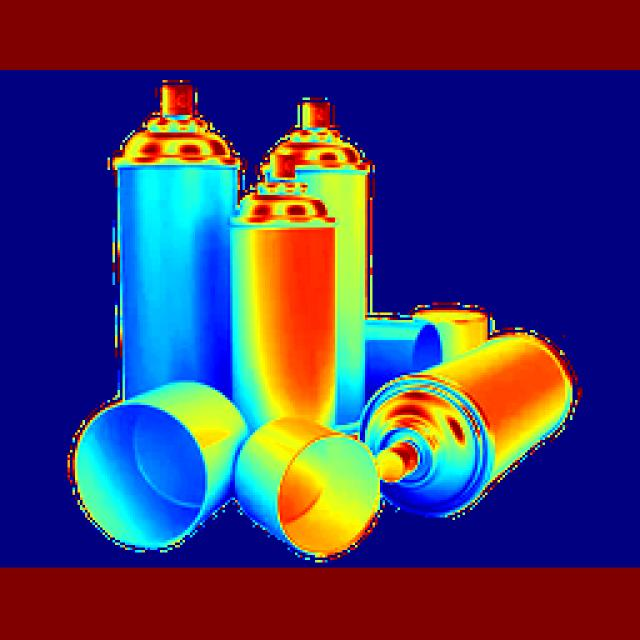Aerosol Cans: (118, 68, 242, 386), (239, 150, 340, 428), (279, 93, 383, 222)
